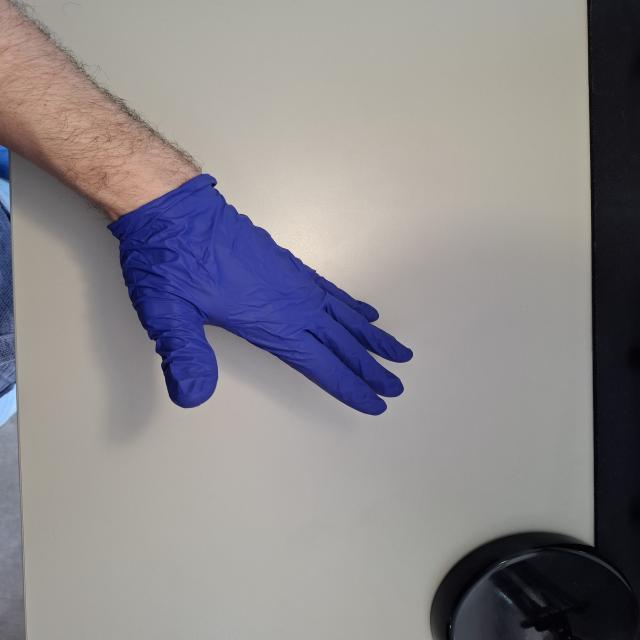glove_on: (105, 168, 418, 419)
